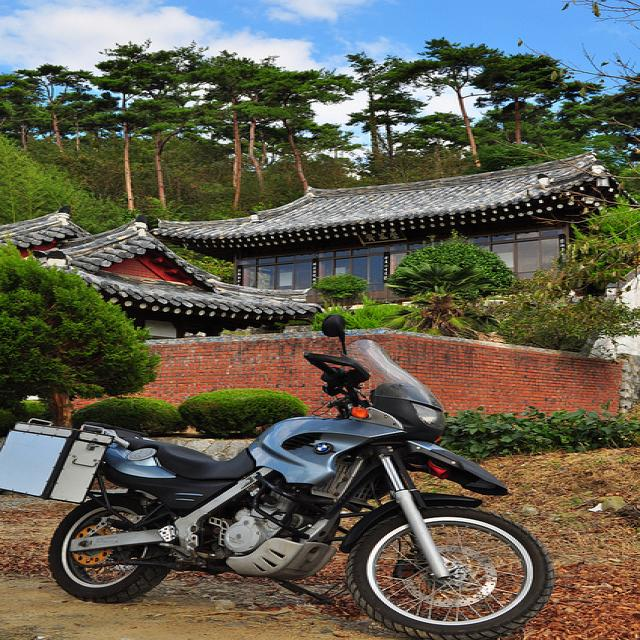motor: (0, 316, 559, 638)
